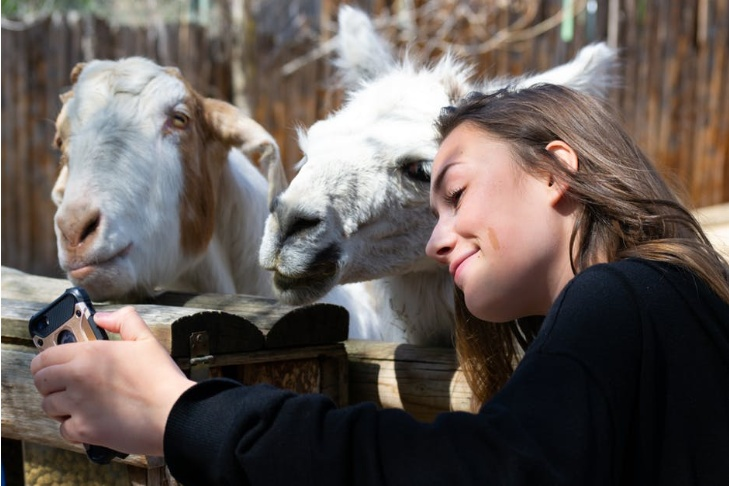face: (425, 121, 527, 321)
